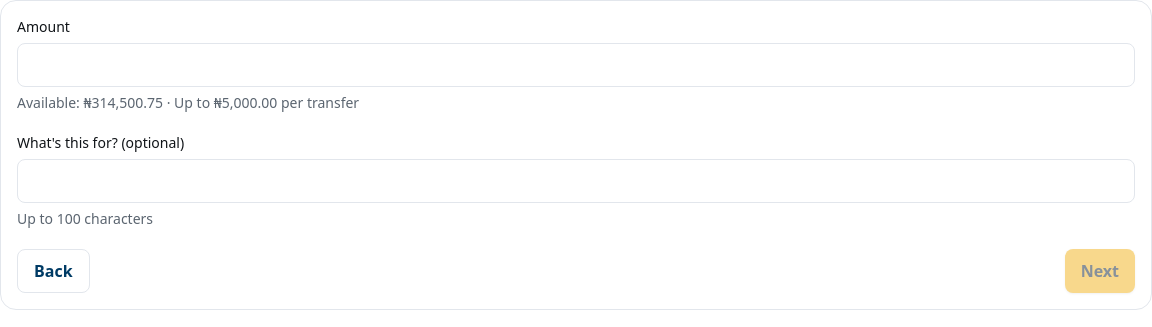
Scenario: AmountStep › rejects zero
This screenshot has width=1152, height=327.
Type "0" into the field labelled "Amount" at (576, 65), box [17,43,1135,87]
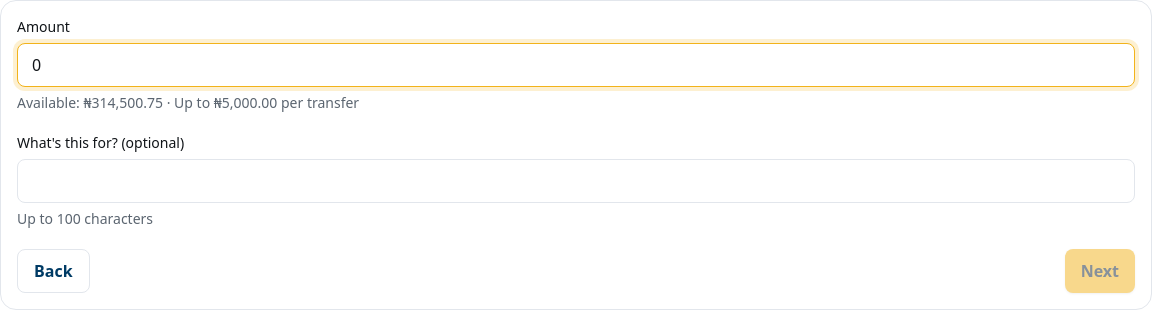
Press Tab
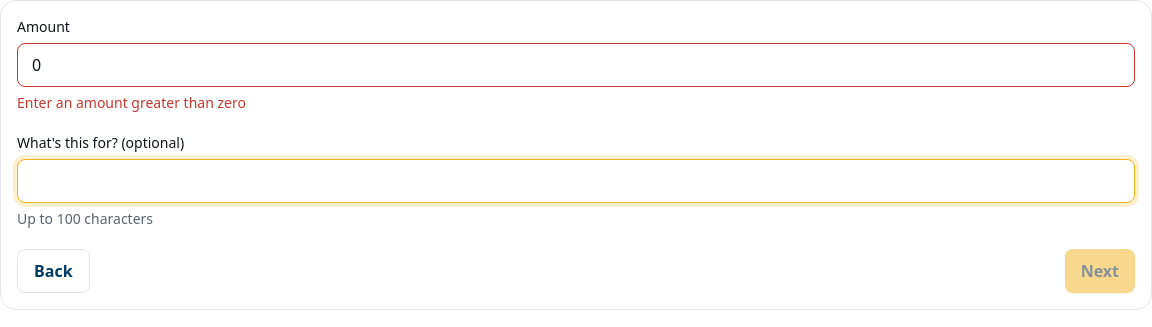
Check: the text "Enter an amount greater than zero" is shown, box [17,93,246,112]
